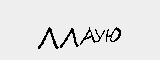А: (80, 26, 96, 45)
Л: (37, 26, 59, 49), (59, 27, 80, 49)
У: (92, 24, 106, 47)
Ю: (104, 25, 122, 44)
